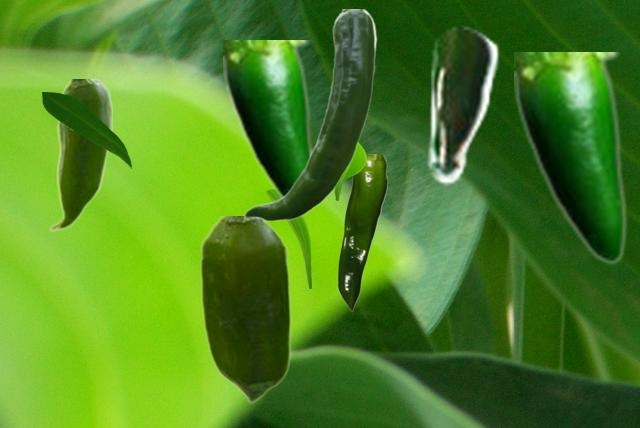green_chili: (243, 9, 376, 221), (514, 52, 626, 264), (199, 216, 290, 402), (223, 40, 313, 213), (423, 24, 499, 184), (48, 79, 111, 231), (337, 154, 386, 310)
